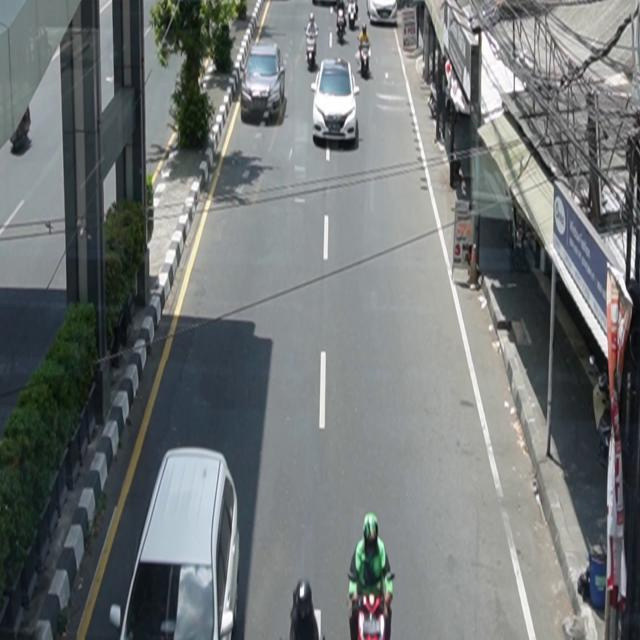car: (110, 447, 241, 640), (311, 58, 361, 146), (241, 42, 286, 122)
